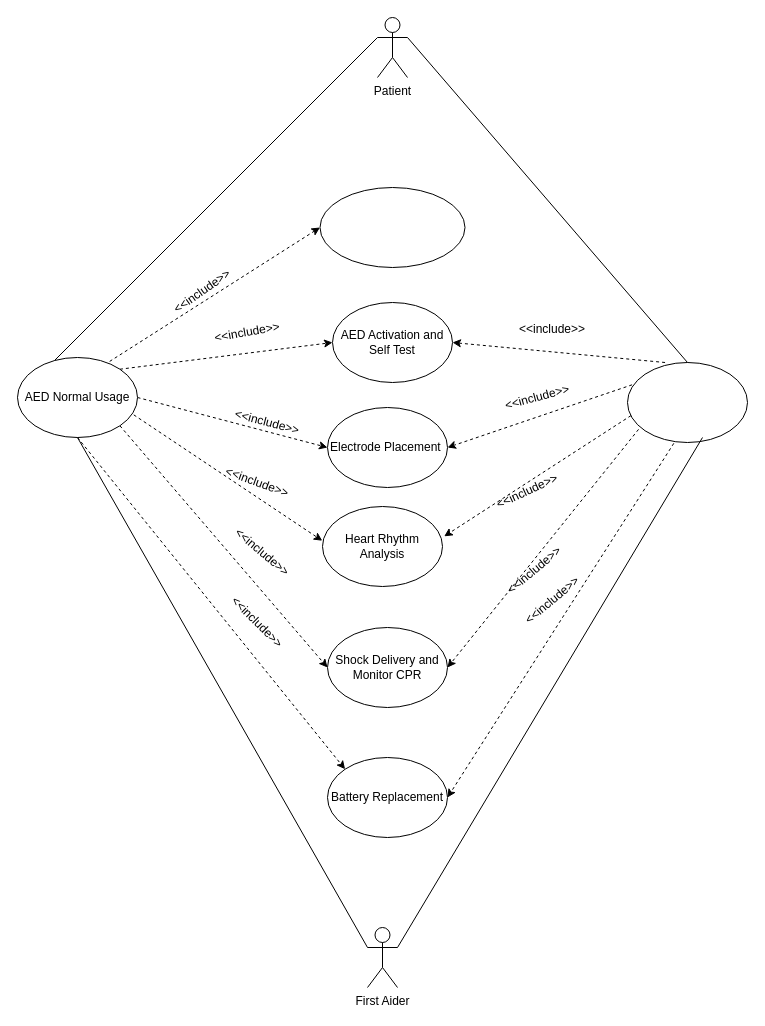
Image size: 765x1026. Some labels were removed from this diagram. The centre of each missing label's shape, as x and y in pixels:
AED Instructs First Aider to Check Vital Sign and Call Emergency: the point at 392,227
Jumping Straight to Heart Analysis: the point at 687,402
